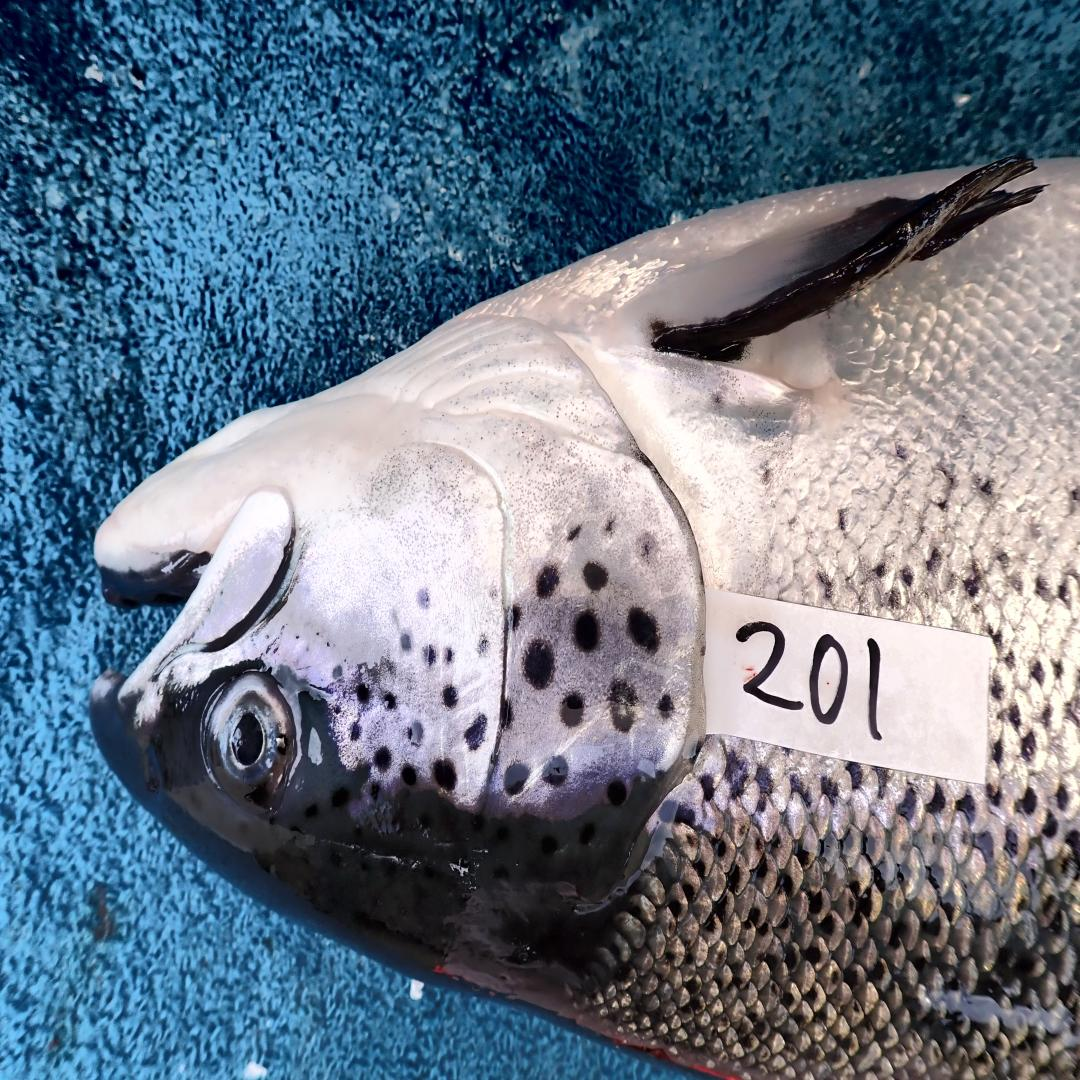spot: (523, 638, 555, 689), (629, 608, 660, 652), (610, 681, 637, 731), (574, 610, 599, 650), (633, 529, 660, 565), (464, 714, 487, 751), (504, 762, 529, 796), (561, 692, 584, 728), (582, 562, 608, 591), (536, 565, 559, 596), (542, 757, 567, 785), (435, 759, 456, 790), (373, 743, 392, 773), (608, 779, 626, 804), (401, 763, 420, 786), (407, 720, 424, 745), (508, 604, 522, 631), (603, 514, 617, 540), (564, 523, 582, 543), (501, 698, 513, 728), (443, 686, 458, 709), (658, 695, 673, 717), (424, 644, 437, 667), (382, 692, 397, 711), (477, 634, 489, 657), (356, 683, 369, 703), (418, 588, 430, 608), (350, 723, 362, 742), (488, 583, 498, 603), (401, 633, 411, 652), (445, 647, 454, 664), (334, 665, 343, 680), (333, 703, 343, 713)
